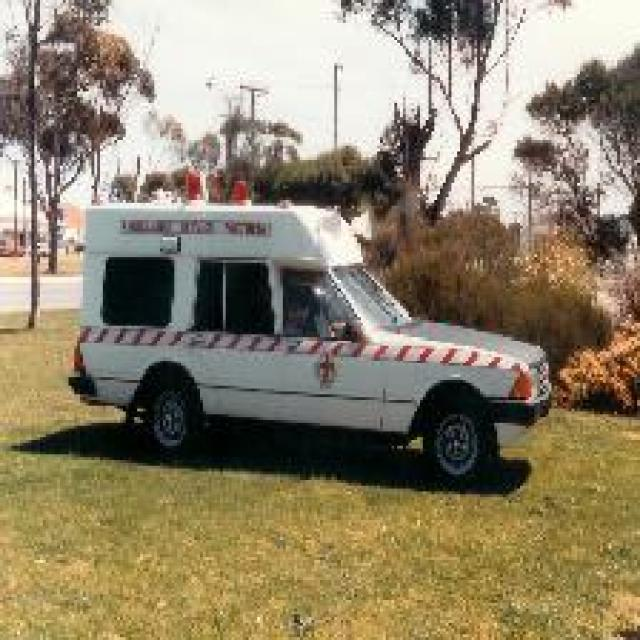Ambulance: (66, 177, 551, 480)
